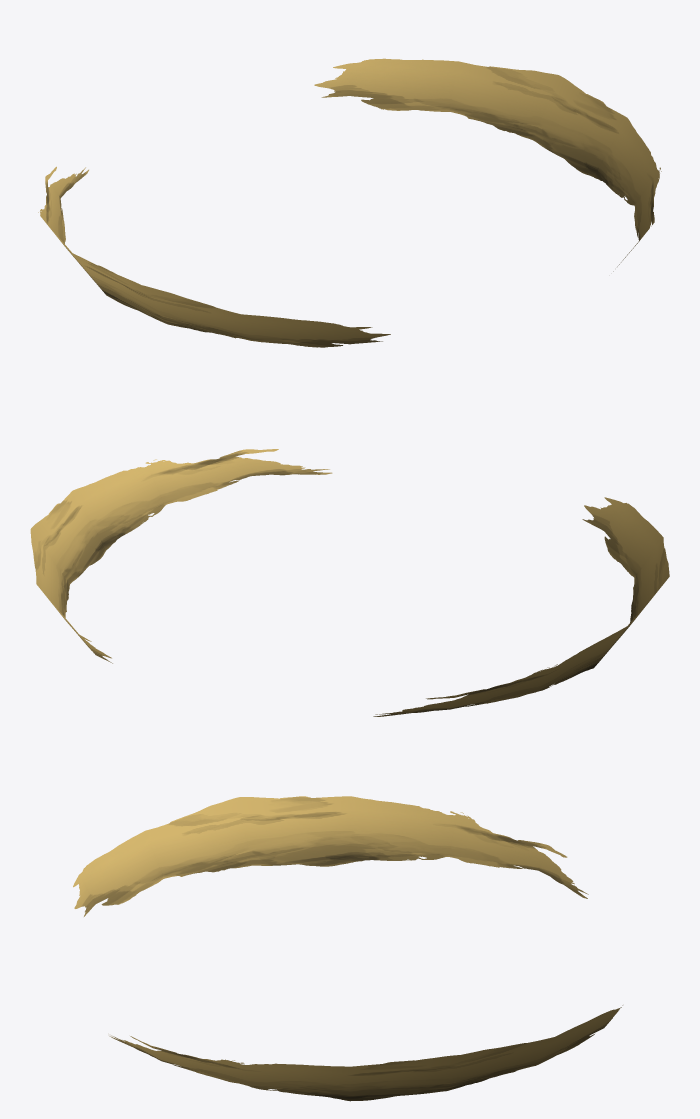
File: dust particle.FBX
3 views of the same model, one above another, from view 1: azimuth 30°, elevation 25°; view 2: azimuth 150°, elevation 25°; view 3: azimuth 270°, elevation 25° (orthographic).
Parts seen in each view (by area): view 1: Cylinder001; view 2: Cylinder001; view 3: Cylinder001.
Boxes of the visible parts, bbox=[...] form: Cylinder001: bbox=[38, 58, 661, 347]; Cylinder001: bbox=[30, 449, 669, 716]; Cylinder001: bbox=[73, 796, 622, 1101].
Size of the model in its own units: 75.48 by 10.2 by 74.33.
